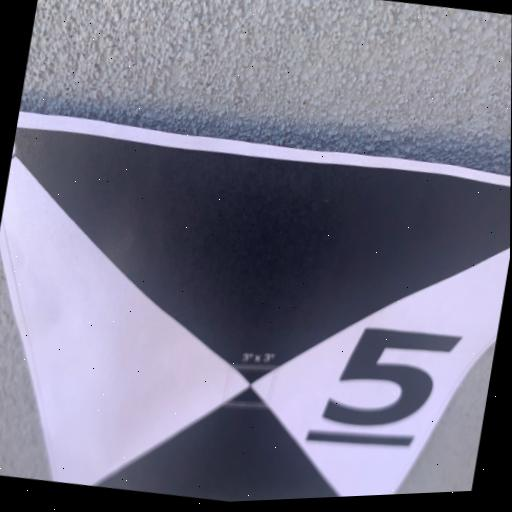target5: (2, 111, 511, 501)
